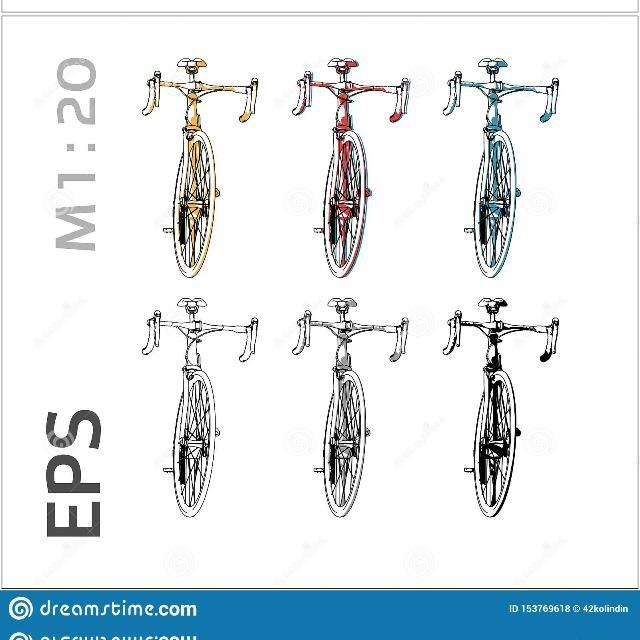obstacle: (135, 42, 279, 276), (438, 56, 574, 292), (296, 41, 426, 286), (292, 293, 420, 529)
